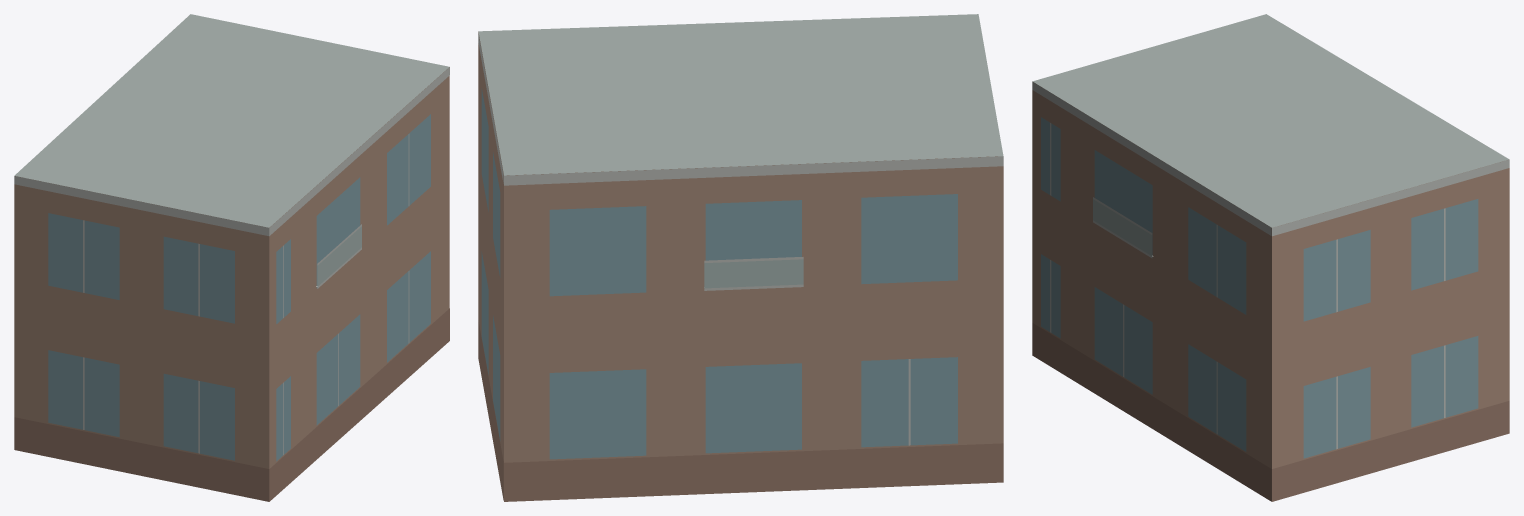
File: survey-upis-32914992.glb
3 views of the same model, side by side, from view 1: azimuth 30°, elevation 25°; view 2: azimuth 150°, elevation 25°; view 3: azimuth 270°, elevation 25° (orthographic). The views are drawn at different scales.
Parts seen in each view (by area): view 1: survey-upis-32914992.tmp; view 2: survey-upis-32914992.tmp; view 3: survey-upis-32914992.tmp.
Boxes of the visible parts, x1,y1,x2,y2 form: survey-upis-32914992.tmp: [14, 14, 449, 501]; survey-upis-32914992.tmp: [478, 14, 1003, 501]; survey-upis-32914992.tmp: [1032, 14, 1509, 501].
Bounding box in the file's own units: 13.15 × 7.85 × 12.4.
